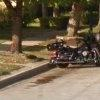Motorcycle: (41, 33, 100, 74)
